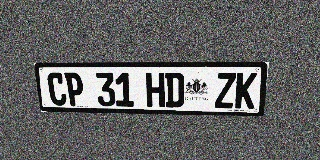1: (114, 72, 134, 107)
3: (96, 72, 116, 106)
C: (46, 72, 67, 106)
D: (165, 73, 184, 108)
H: (146, 73, 165, 107)
K: (235, 73, 257, 109)
P: (64, 72, 85, 106)
Z: (215, 73, 236, 108)
